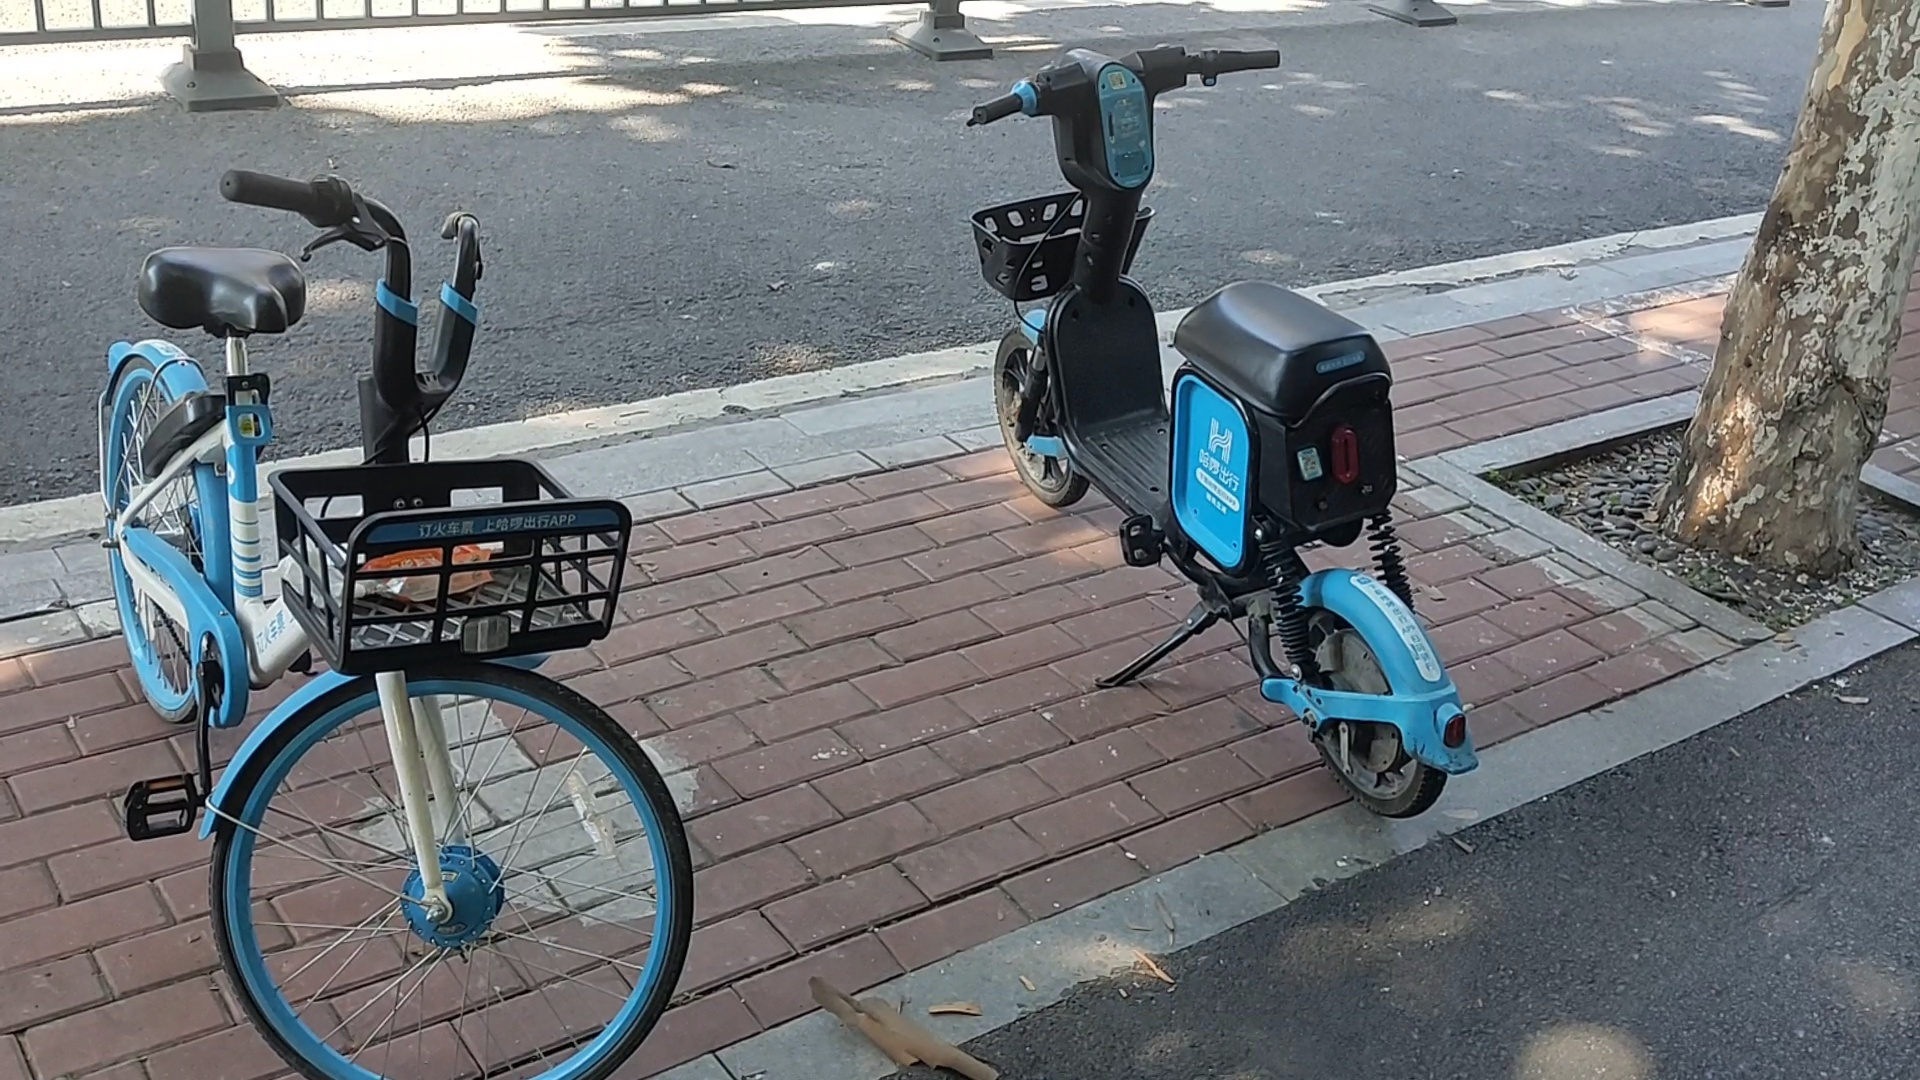non-vehicle: (47, 160, 696, 1058), (957, 36, 1485, 835)
